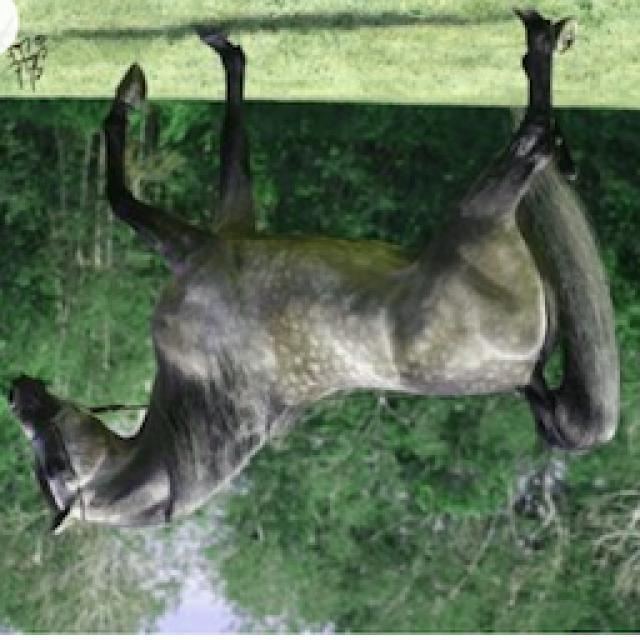Horse: (2, 5, 630, 545)
